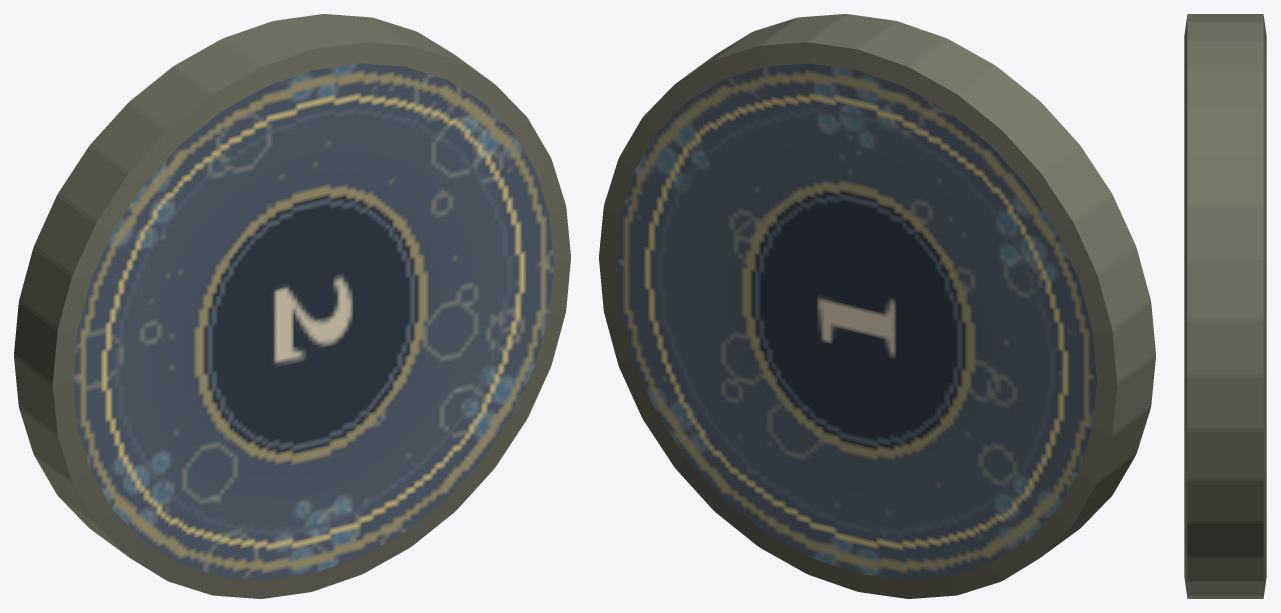
3 views of the same model, side by side, from view 1: azimuth 30°, elevation 25°; view 2: azimuth 150°, elevation 25°; view 3: azimuth 270°, elevation 25° (orthographic). The views are drawn at different scales.
Size of the model in its own units: 101 by 101 by 14.14.
Materials: 1 (1 with a texture image).
